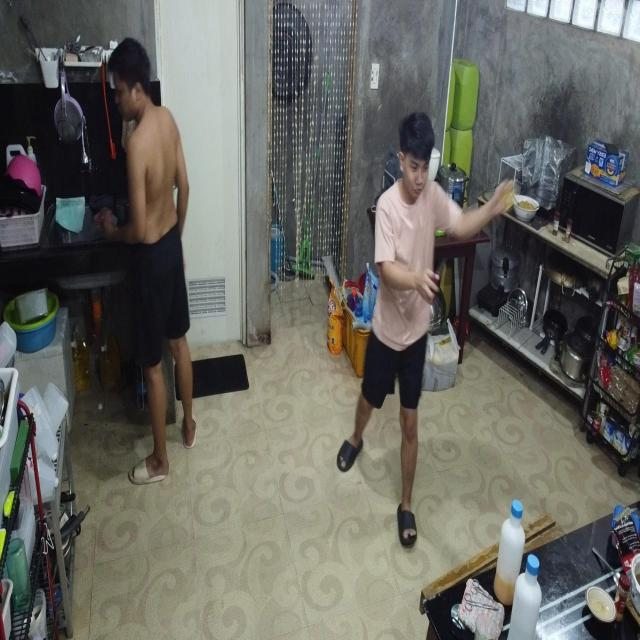scissor: (464, 592, 499, 613), (470, 578, 497, 604)
